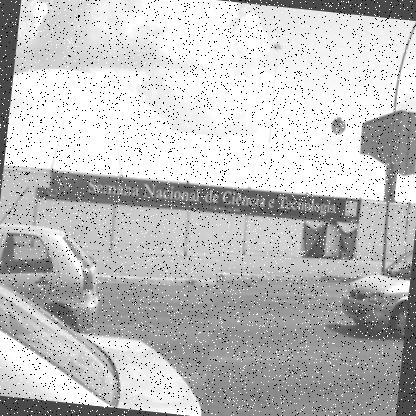Car: (0, 182, 225, 415), (0, 201, 114, 322), (340, 236, 412, 338)
